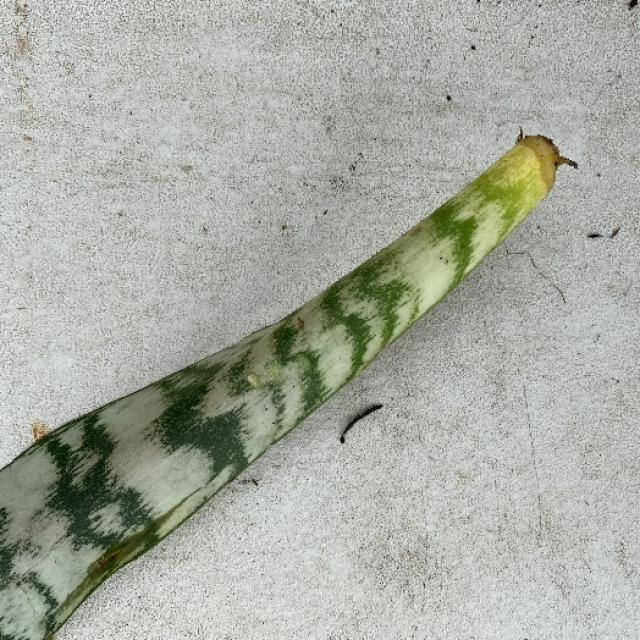organic: (271, 186, 492, 372), (438, 146, 560, 246)
